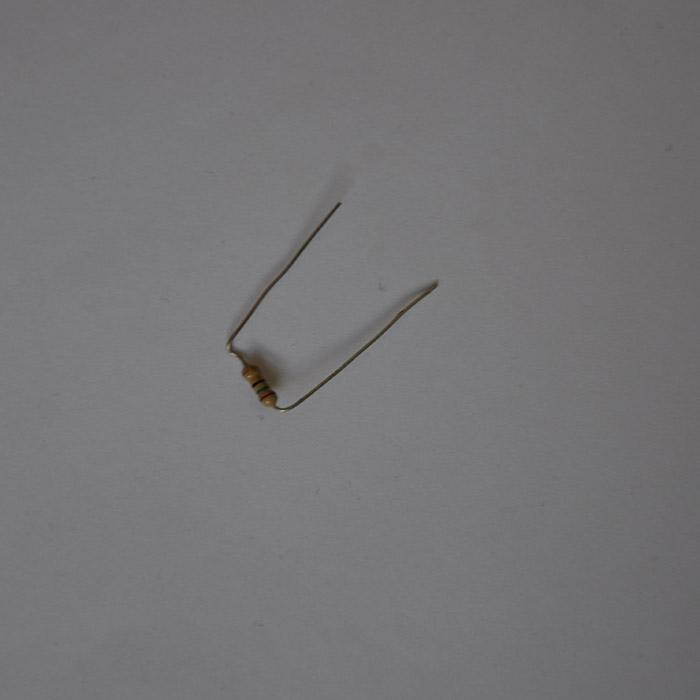resistor: (236, 358, 276, 409)
